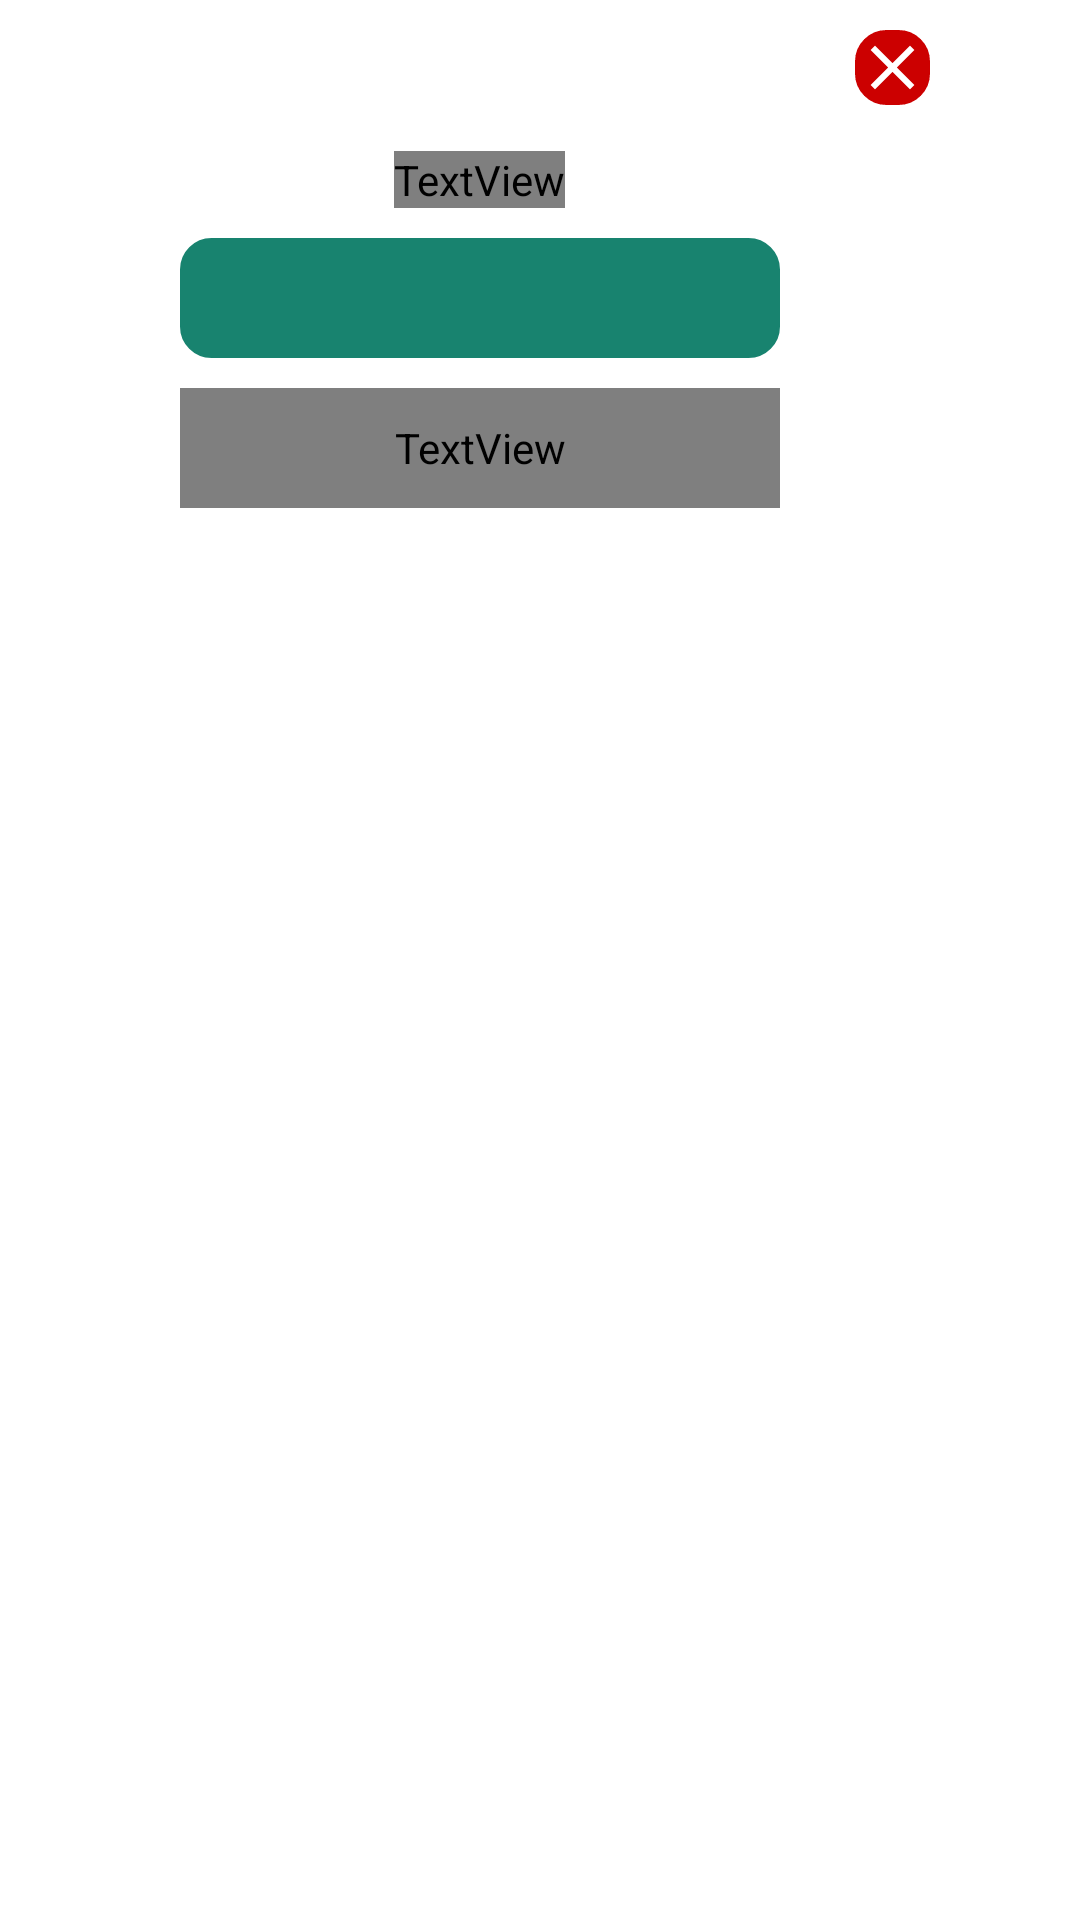

Where icons sit on this 1080 × 1920 app screen, as (x1, y1, x2, y2):
close: (855, 30, 930, 105)
